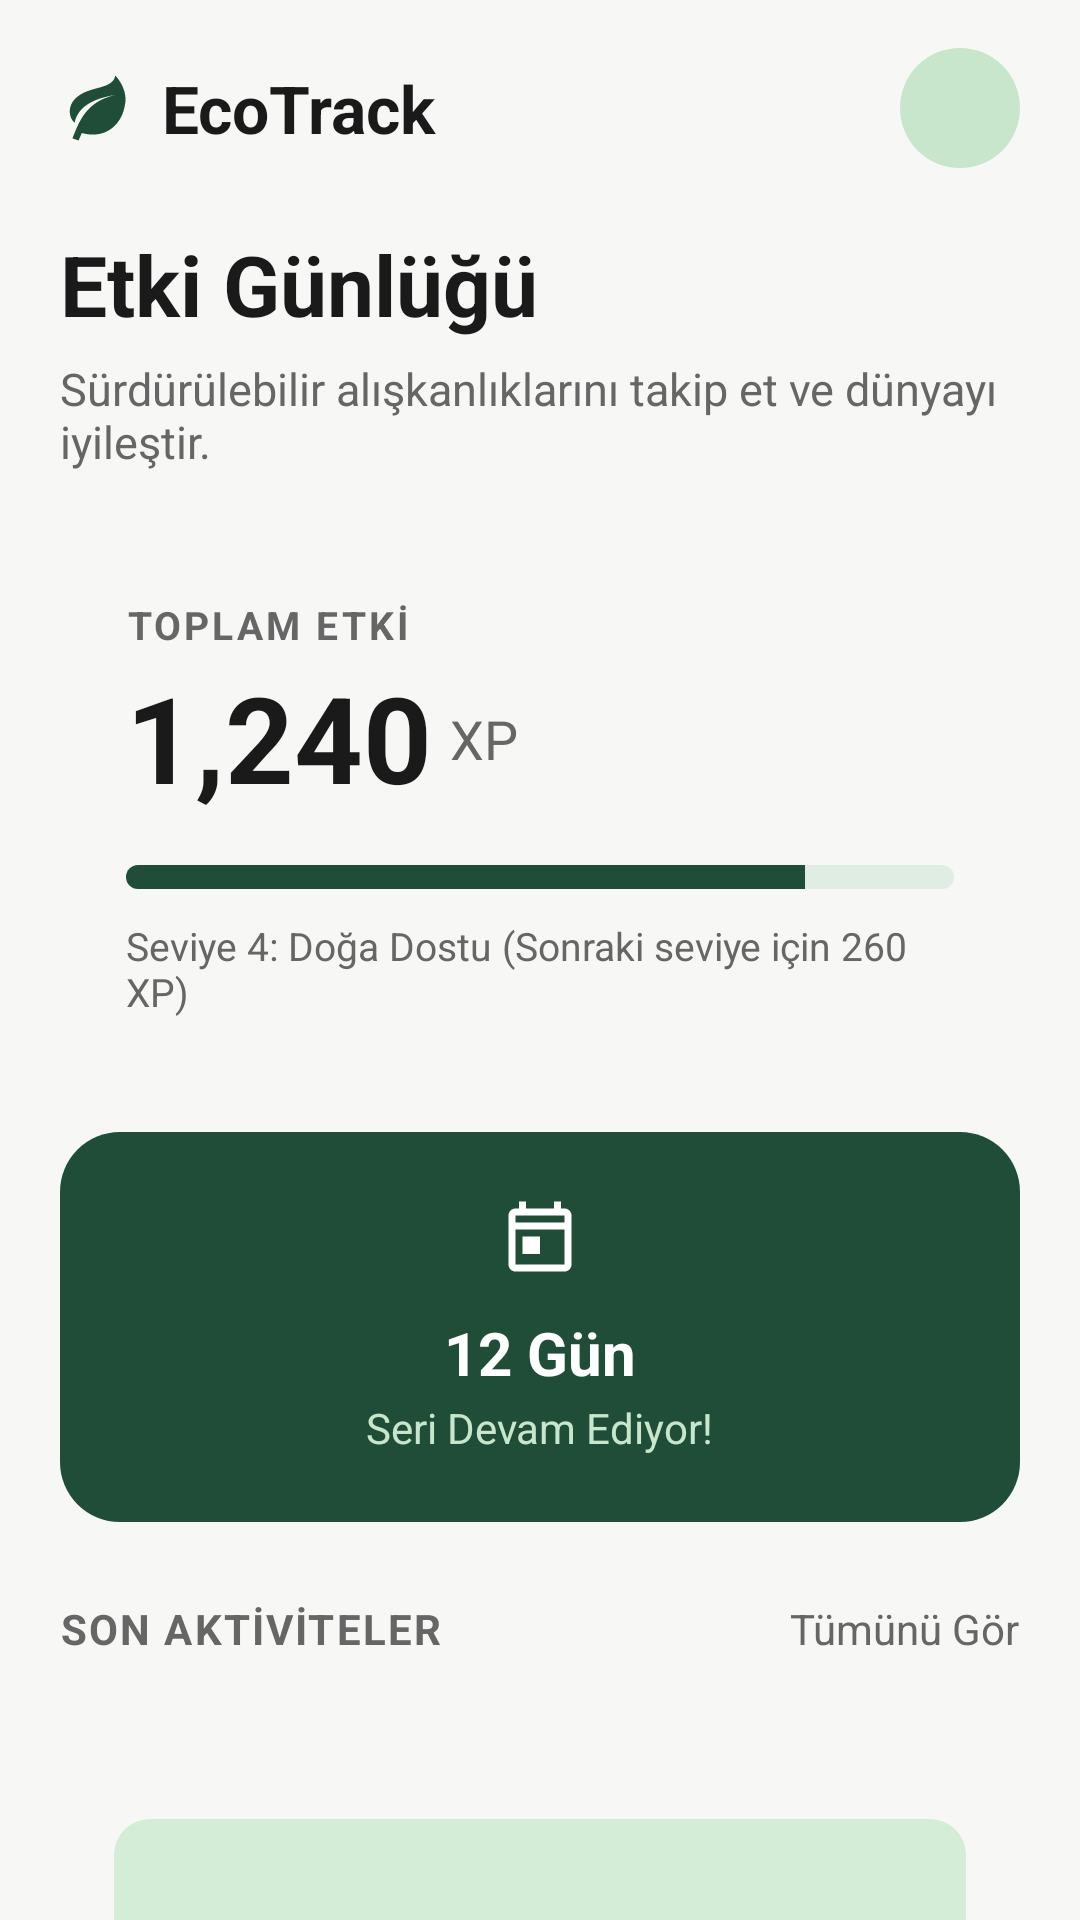

Where to tap for icons on this 1080w x 1920h app screen, as [x,y]:
calendar: [540,1236]
leaf: [97,108]
